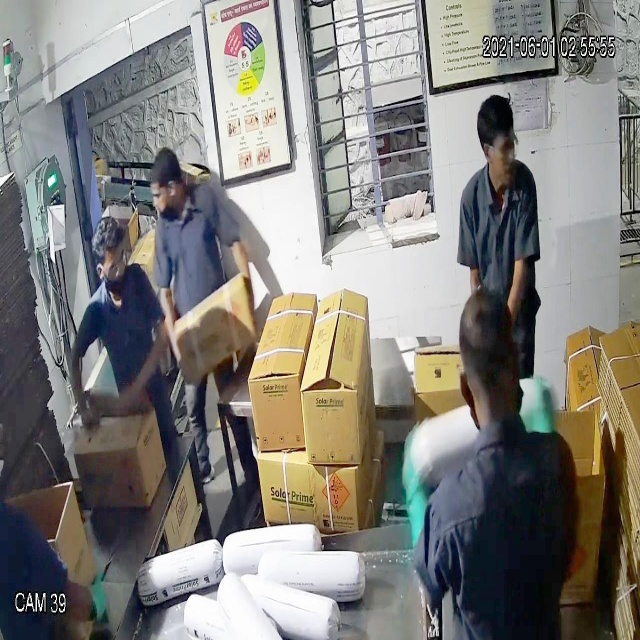Gafas: (475, 132, 522, 166), (91, 248, 133, 284)
